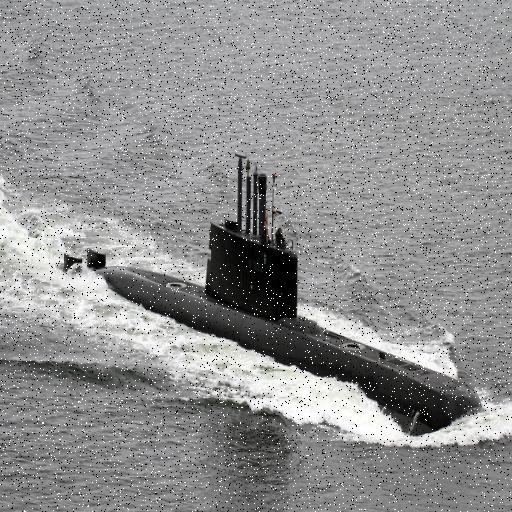submarine: (63, 151, 484, 435)
